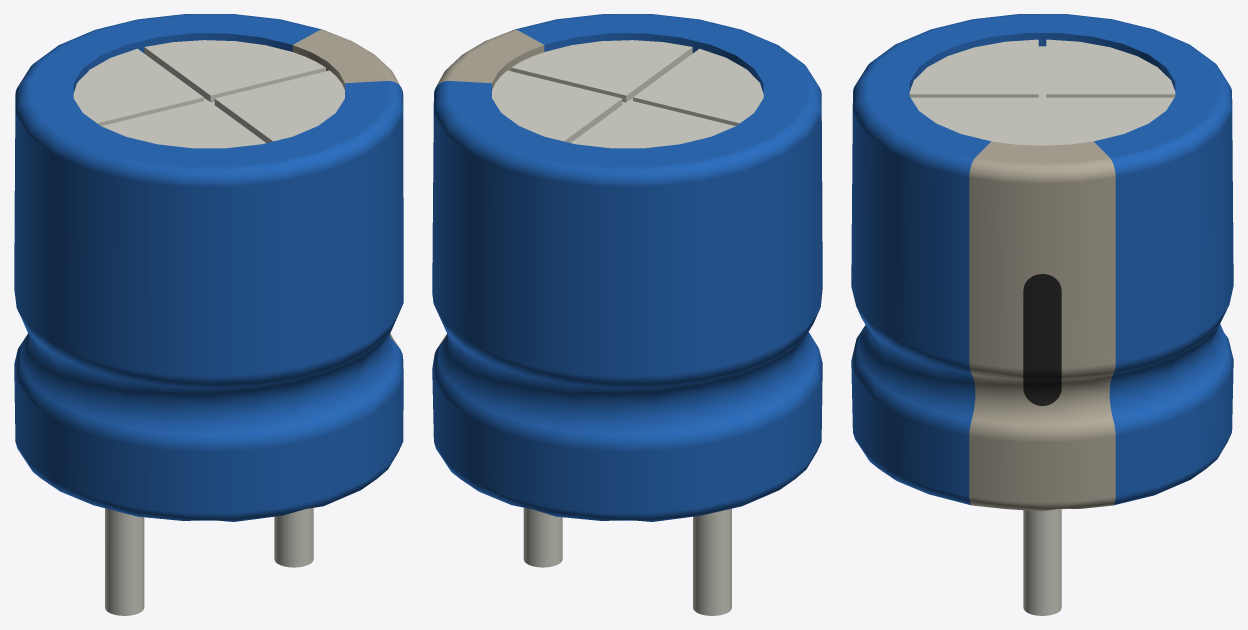
File: Capacitor_THT__CP_Radial_D5.0mm_P2.50mm.glb
3 renders of one model, left to right at view 1: azimuth 30°, elevation 25°; view 2: azimuth 150°, elevation 25°; view 3: azimuth 270°, elevation 25°, orthographic. The views are drawn at different scales.
Parts seen in each view (by area): view 1: CP_Radial_D50mm_P250mm; view 2: CP_Radial_D50mm_P250mm; view 3: CP_Radial_D50mm_P250mm.
Boxes of the visible parts, x1,y1,x2,y2 form: CP_Radial_D50mm_P250mm: (14,14,403,615); CP_Radial_D50mm_P250mm: (432,14,822,615); CP_Radial_D50mm_P250mm: (851,14,1233,615).
Size of the model in its own units: 0.00498 by 0.007 by 0.005.
